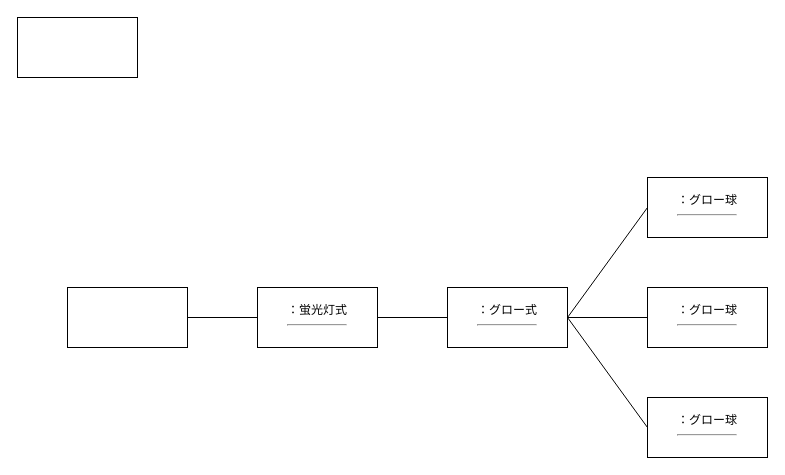
Some shapes in this 785 by 475 pixel diagram are drawn without their labels. Here are the shapes that lost their labels. From the top down, the centre of each, then its label:
At [77,47]: "lesson9-2".
At [127,317]: "：電気スタンド".
